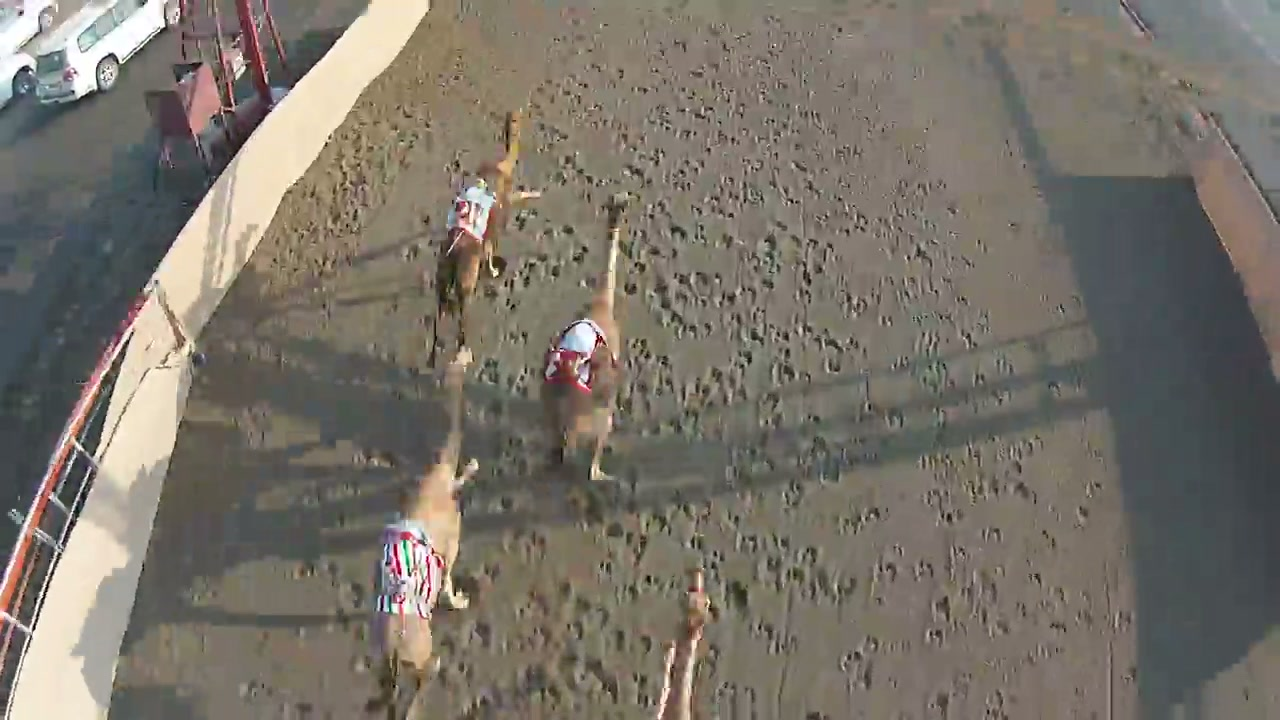animal_foot_print: (808, 82, 1017, 686), (446, 56, 613, 704), (573, 98, 708, 704), (724, 78, 839, 717)
